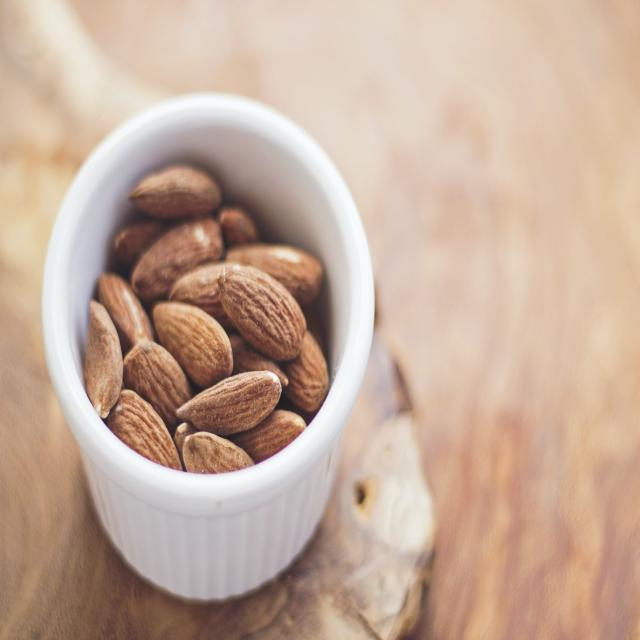almond: (214, 262, 306, 358), (130, 214, 224, 301), (177, 370, 282, 441), (150, 301, 233, 390), (107, 388, 184, 472), (125, 342, 190, 431), (283, 335, 333, 415)
